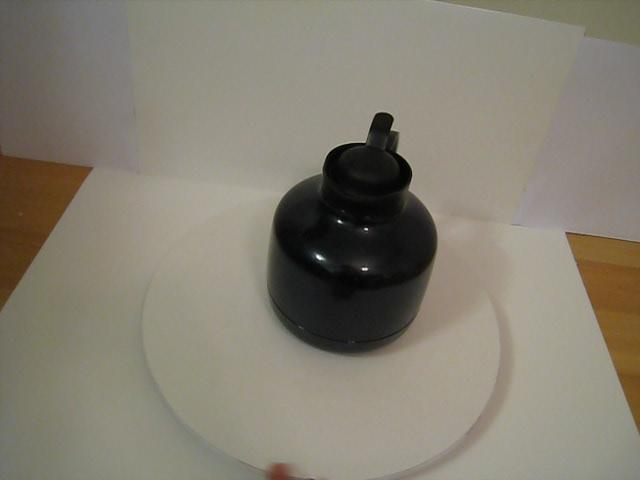pitcher: (263, 111, 452, 370)
